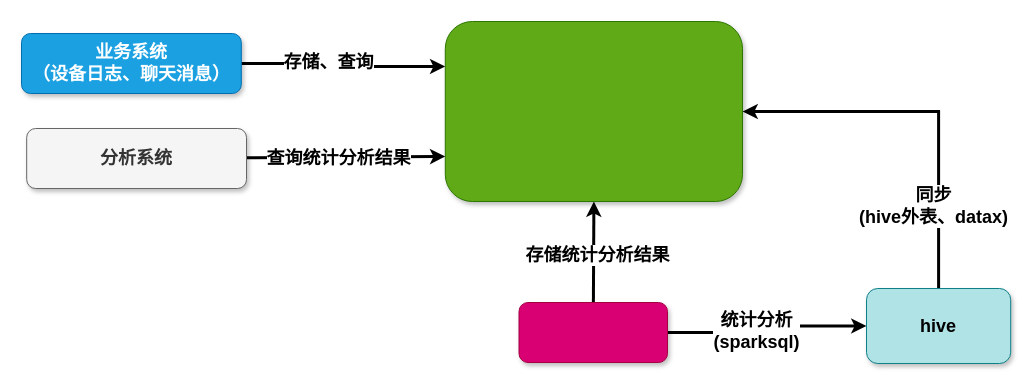
This 1035x388 diagram has some shape labels left out. The shapes that lost their labels are listed below. From the top down, each one's centre as x and y in pixels, then its label:
At (x=594, y=112): "phoenix + hbase (mybatis, jdbc, mybatisplus)".
At (x=594, y=334): "spark".
